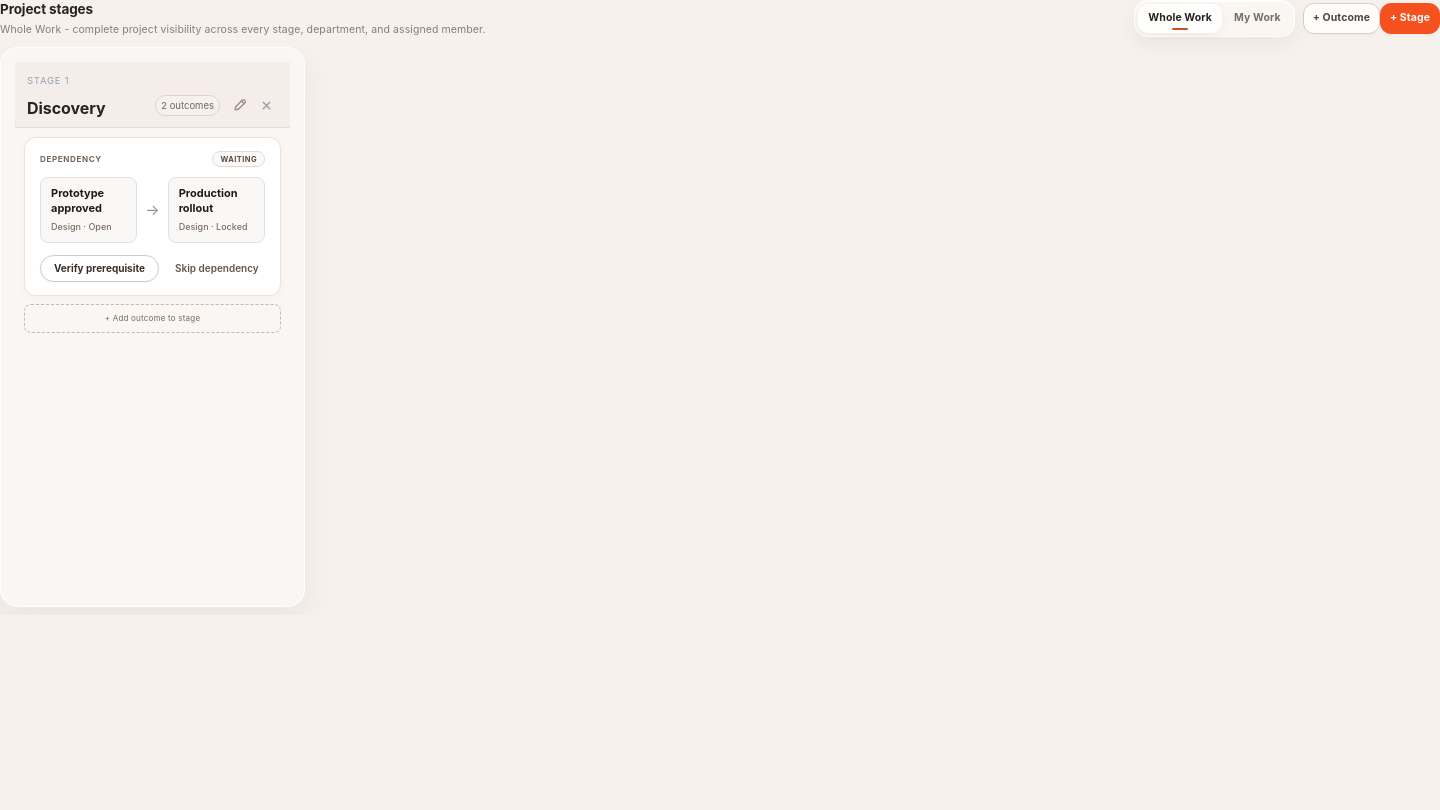
Test: ProjectWorkflow Stage & Outcome Deletion › opens the dependency override modal directly from the board
The image size is (1440, 810).
Click the button "Skip dependency".
click(217, 268)  # box x1=171 y1=256 x2=263 y2=281
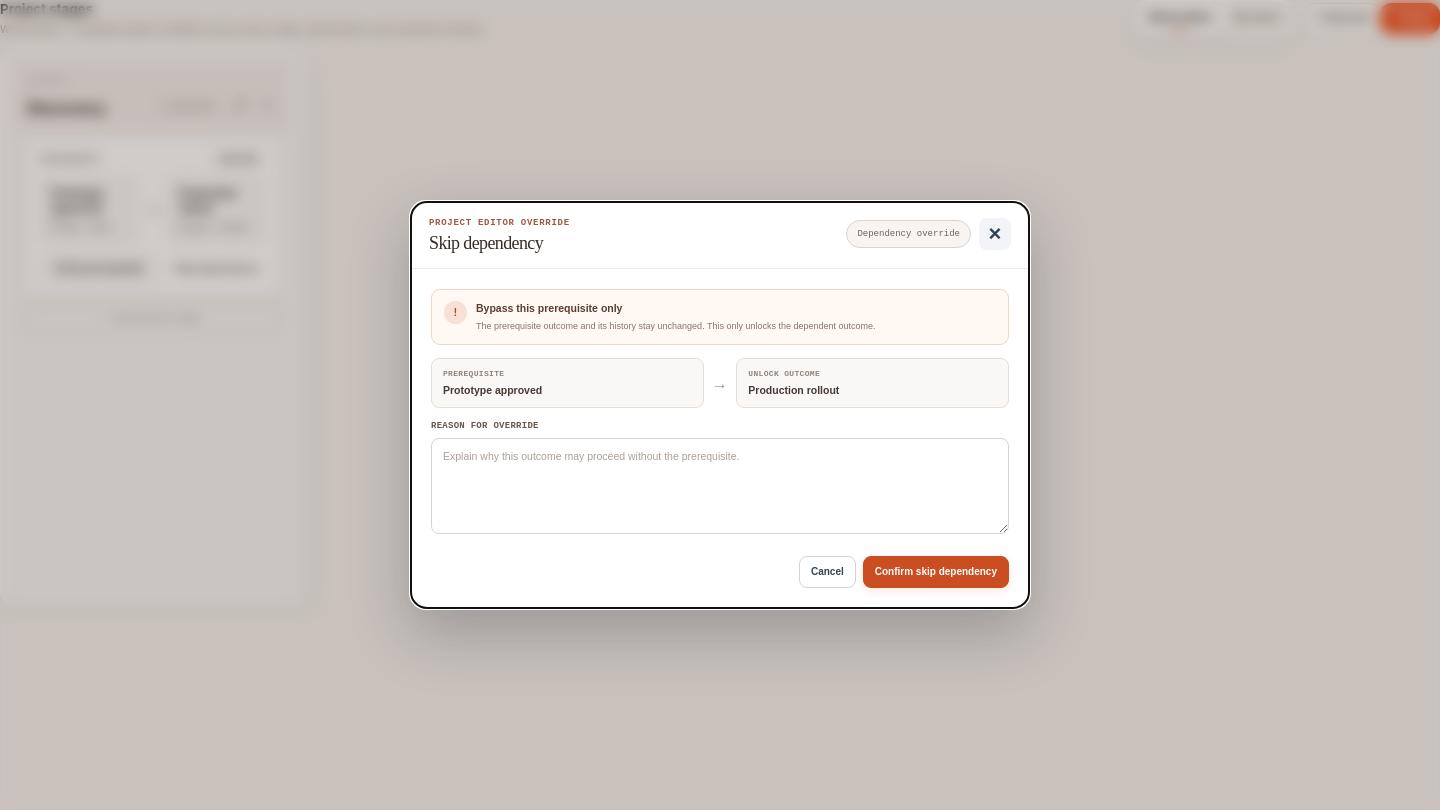
Now the dialog "Skip dependency" is shown, box x1=410 y1=201 x2=1030 y2=609
Now the text "Bypass this prerequisite only" is shown, box x1=476 y1=302 x2=622 y2=314
Now the text "Prototype approved" is shown, box x1=443 y1=384 x2=542 y2=396
